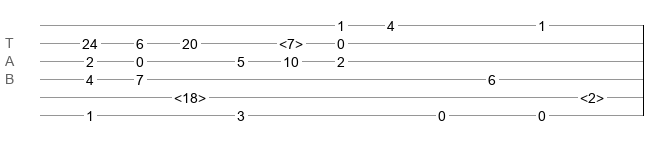0: (136, 54, 144, 64), (337, 36, 345, 46), (438, 108, 446, 118), (538, 108, 546, 118)
1: (86, 108, 94, 118), (337, 18, 345, 28), (538, 18, 546, 28)
10: (283, 54, 299, 64)
2: (86, 54, 94, 64), (337, 54, 345, 64)
20: (182, 36, 198, 46)
24: (82, 36, 98, 46)
3: (237, 108, 245, 118)
4: (86, 72, 94, 82), (387, 18, 395, 28)
5: (237, 54, 245, 64)
6: (136, 36, 144, 46), (488, 72, 496, 82)
7: (136, 72, 144, 82)
harmonic: (174, 90, 206, 100), (279, 36, 303, 46), (580, 90, 604, 100)
